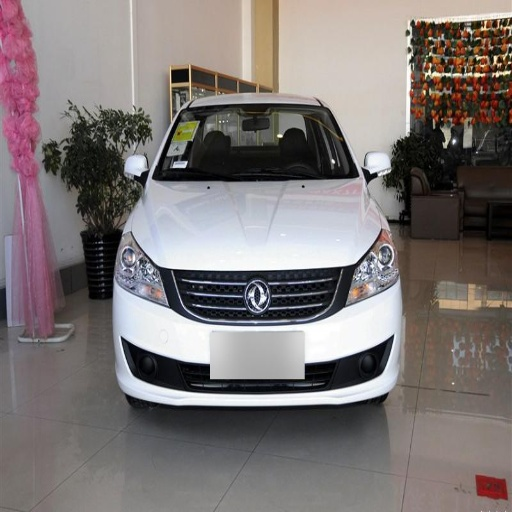front_bumper: (115, 264, 398, 405)
front_right_light: (116, 233, 166, 305)
hood: (134, 178, 380, 270)
